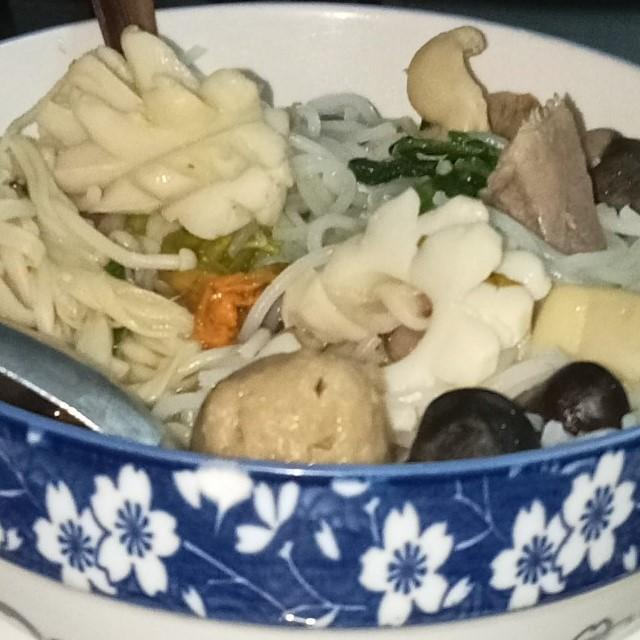bun: (262, 70, 440, 264), (479, 192, 640, 306)
muc: (276, 182, 558, 448), (11, 13, 298, 242)
